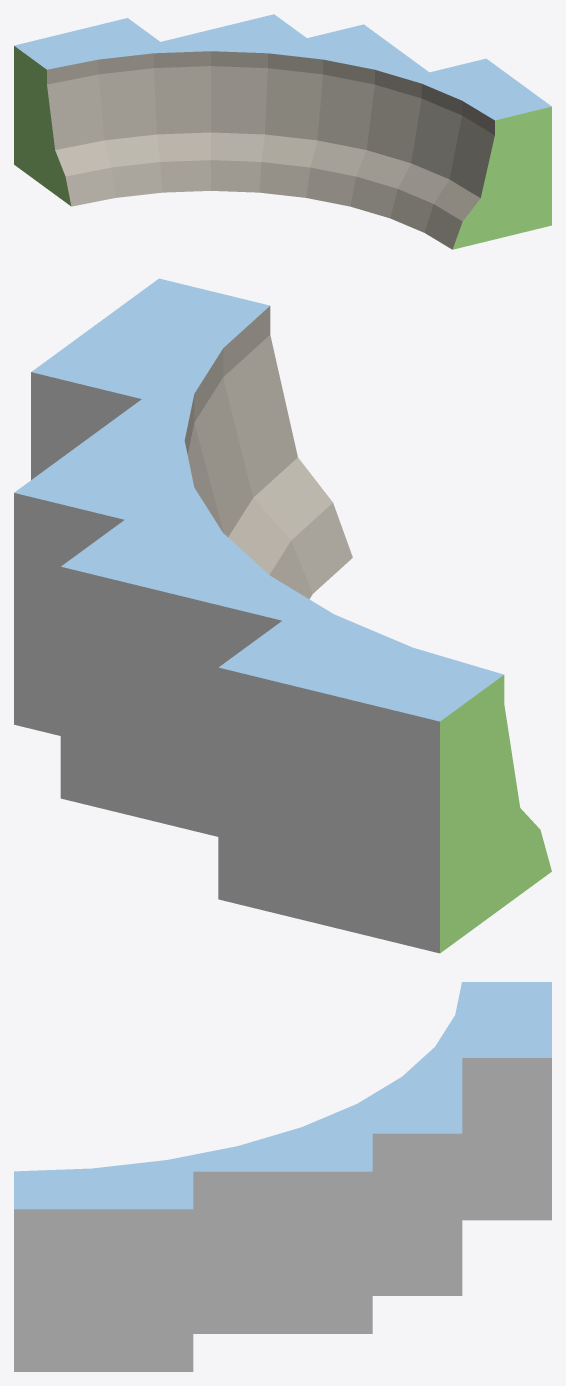
The model's file is Wall_Curve_Inner_6x6_Base.glb.
3 views of the same model, one above another, from view 1: azimuth 30°, elevation 25°; view 2: azimuth 150°, elevation 25°; view 3: azimuth 270°, elevation 25° (orthographic). The views are drawn at different scales.
Visible parts, largest first — view 1: Wall_Curve_Inner_6x6_Base; view 2: Wall_Curve_Inner_6x6_Base; view 3: Wall_Curve_Inner_6x6_Base.
Part boxes in pixels (x1,y1,x2,y2): Wall_Curve_Inner_6x6_Base: (14,14,551,249); Wall_Curve_Inner_6x6_Base: (14,278,551,953); Wall_Curve_Inner_6x6_Base: (14,982,551,1371).
Bounding box in the file's own units: 600 × 200 × 600.
